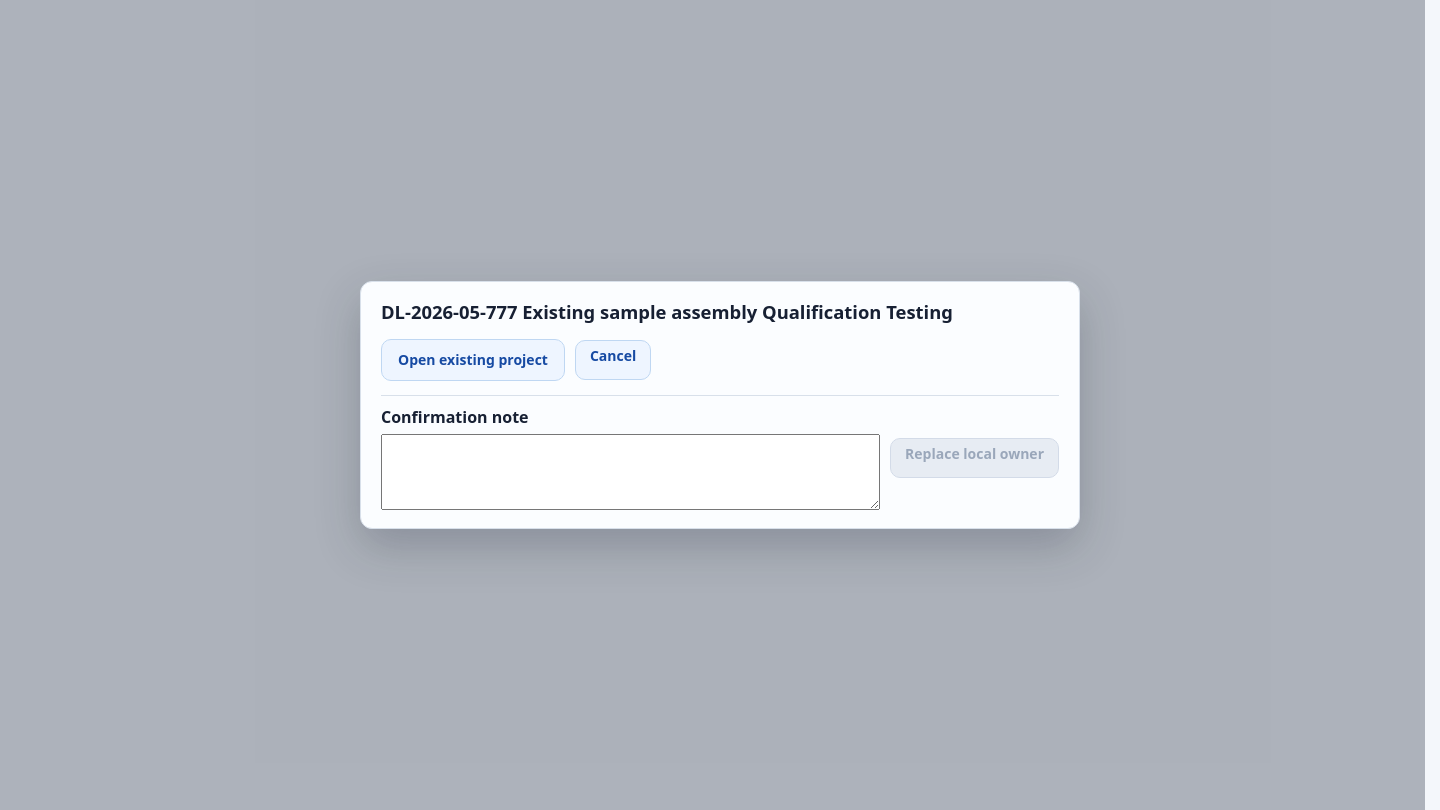
Test: LocalLtrDuplicateConflictPanel › shows a local replacing state while the confirmation request is pending
In the text box labelled "Confirmation note": [631, 472] box [381, 434, 880, 510], type "Confirmed"
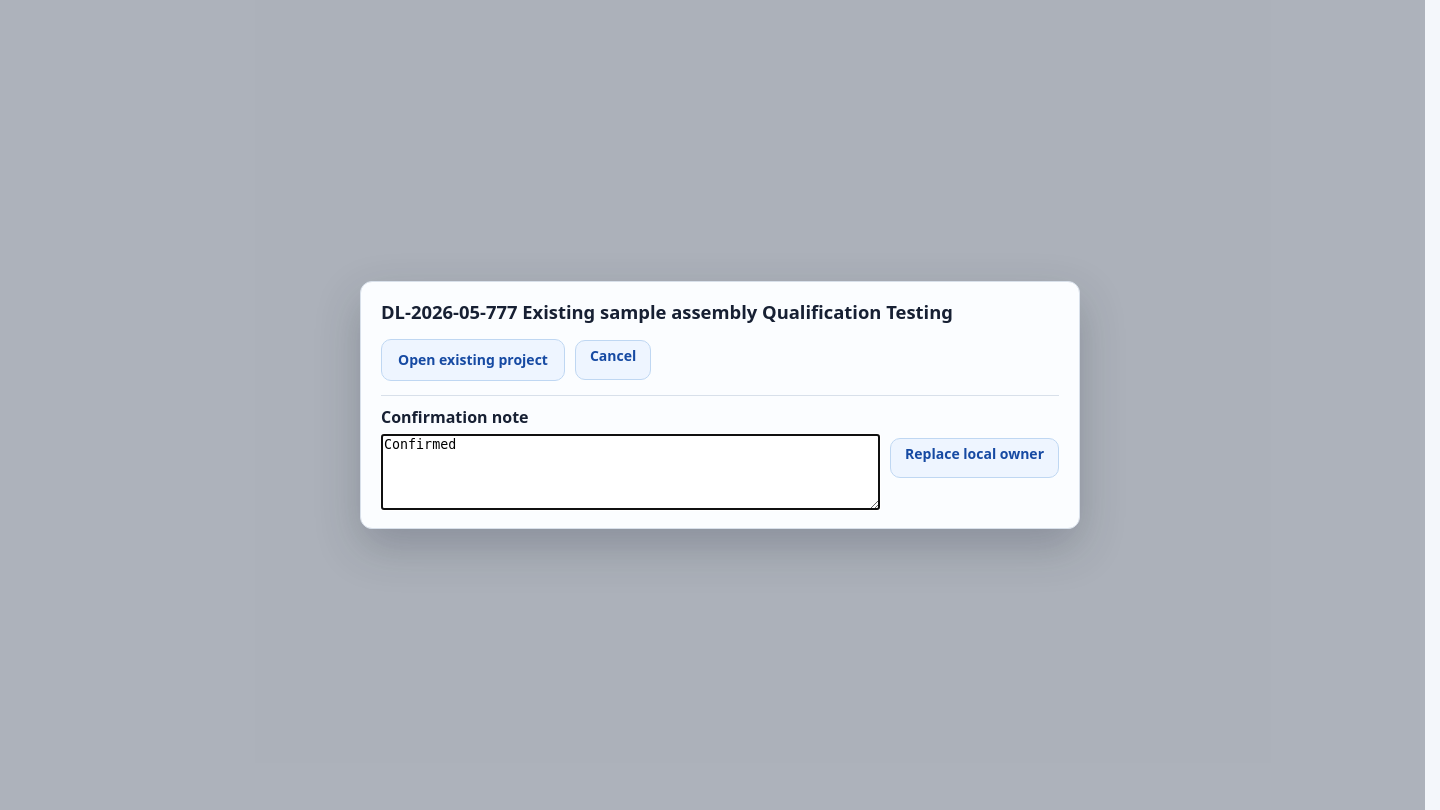
Click the button "Replace local owner": [975, 458] box [890, 438, 1059, 478]
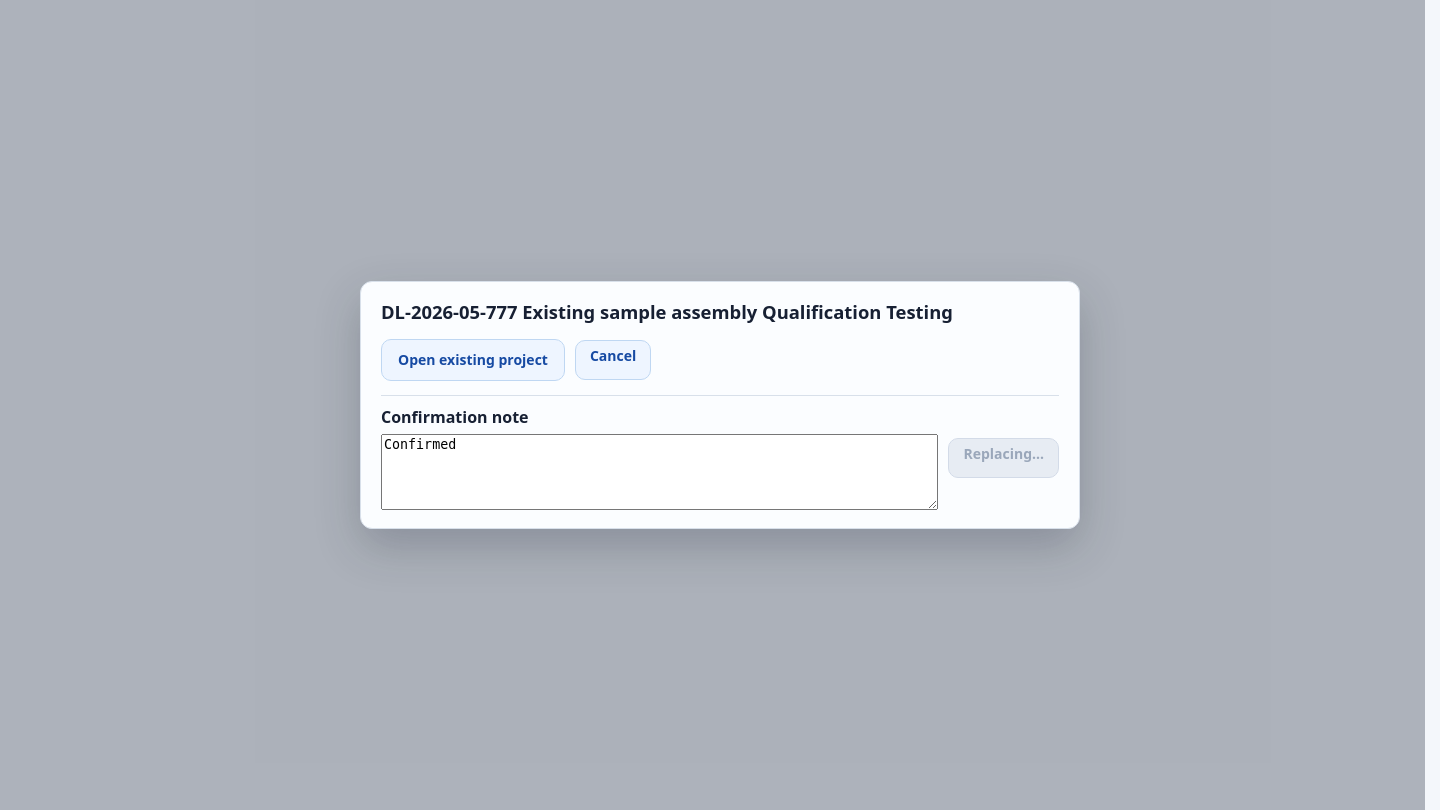
Now the button "Replacing..." is disabled, box [948, 438, 1059, 478]
